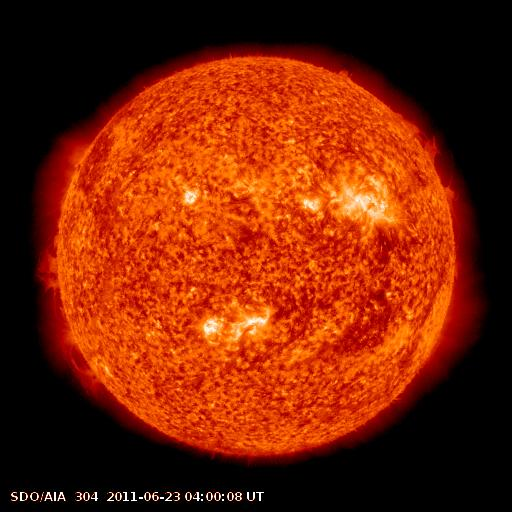prominence: (382, 106, 441, 173), (33, 231, 78, 317), (57, 332, 108, 397), (439, 180, 460, 213)
